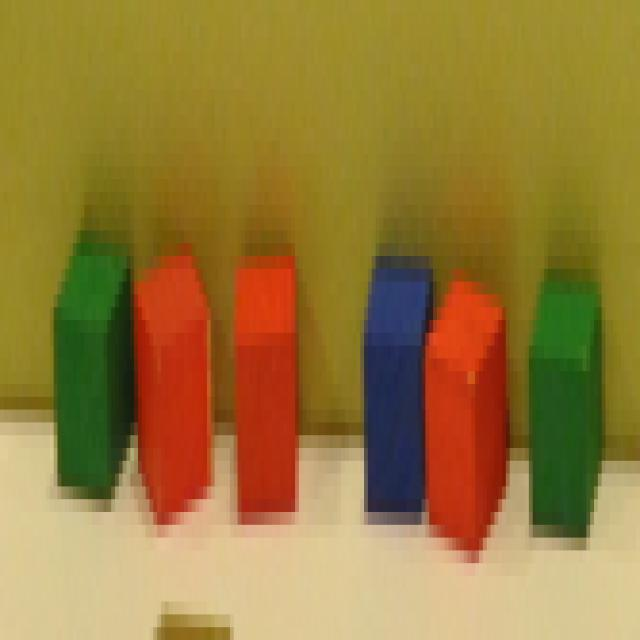bluecube: (362, 254, 432, 519)
green cube: (55, 235, 135, 497), (532, 265, 607, 536)
red cube: (130, 236, 212, 536), (425, 261, 508, 555), (235, 256, 298, 517)
